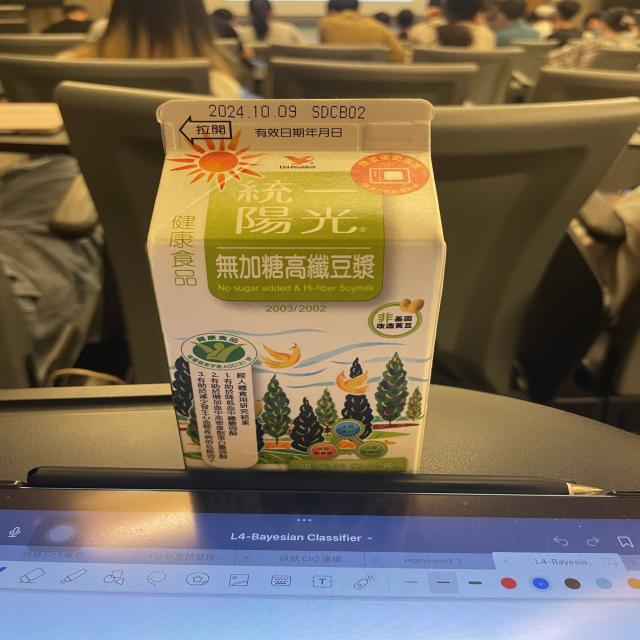TongYi_UnsweetenedHighFiberSoyMilk: (147, 91, 452, 495)
